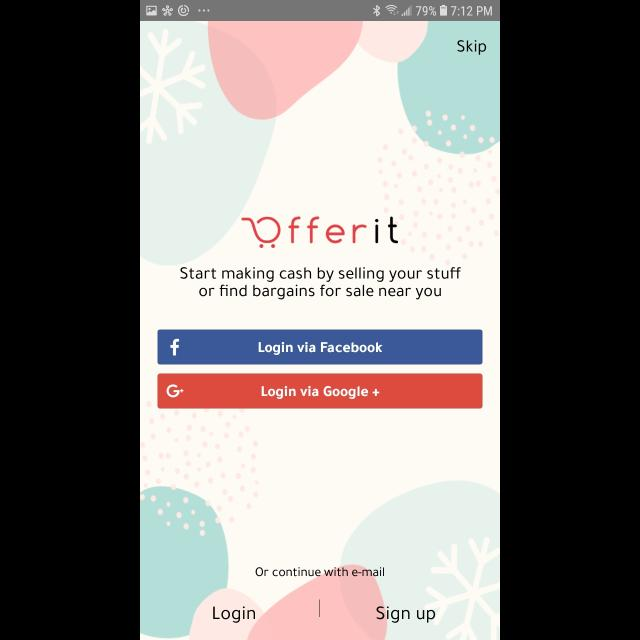backgroundimage: (140, 22, 500, 640)
image: (242, 216, 398, 248)
text: (180, 268, 462, 300), (256, 567, 384, 577), (376, 606, 436, 622), (213, 606, 255, 624), (457, 40, 487, 56)
textbutton: (158, 374, 482, 408), (158, 330, 482, 364)
uppertaskbar: (140, 1, 500, 21)
